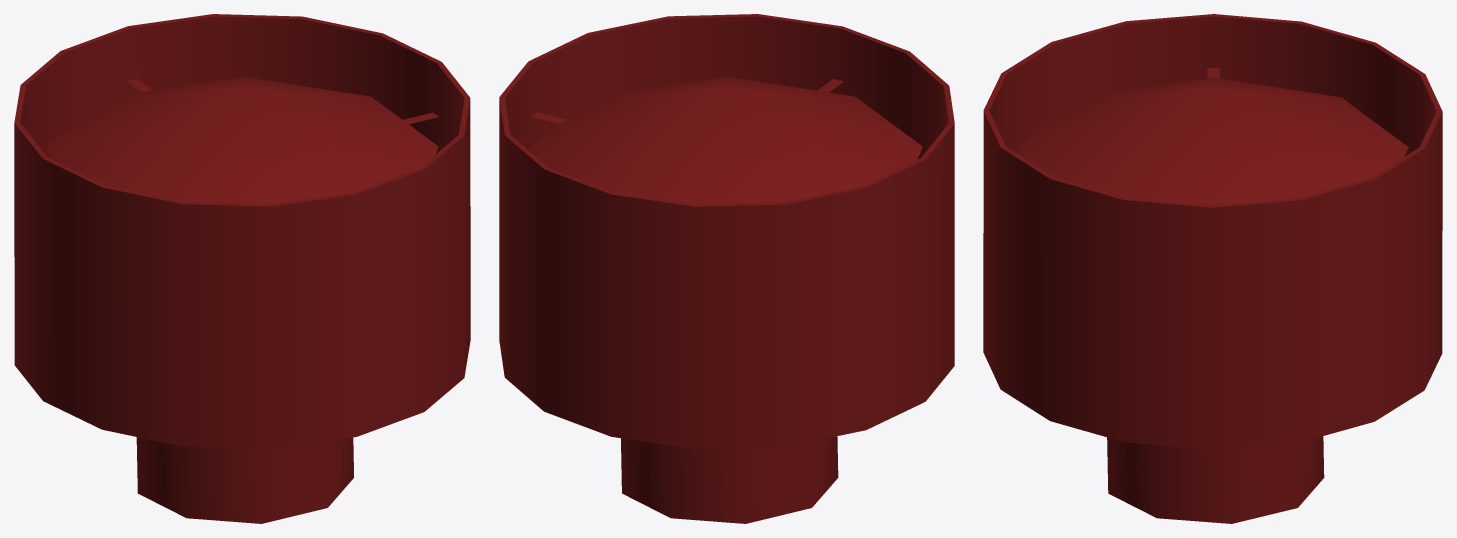
Rendered from SM_RoofelEment_v08.FBX.
3 views of the same model, side by side, from view 1: azimuth 30°, elevation 25°; view 2: azimuth 150°, elevation 25°; view 3: azimuth 270°, elevation 25° (orthographic).
Visible parts, largest first — view 1: SM_RoofelEment_v08; view 2: SM_RoofelEment_v08; view 3: SM_RoofelEment_v08.
Part boxes in pixels (x1,y1,x2,y2): SM_RoofelEment_v08: [14, 14, 470, 523]; SM_RoofelEment_v08: [499, 14, 954, 523]; SM_RoofelEment_v08: [983, 14, 1442, 523].
Size of the model in its own units: 1.63 by 1.52 by 1.63.
1 material, 1 textured.
